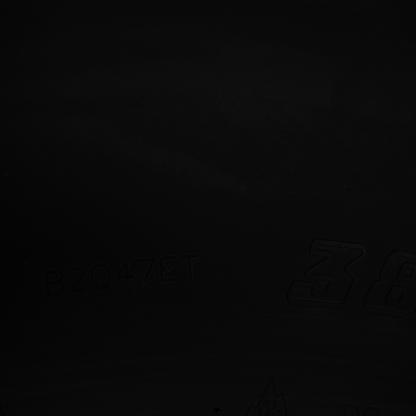ocr: (42, 250, 200, 301)
